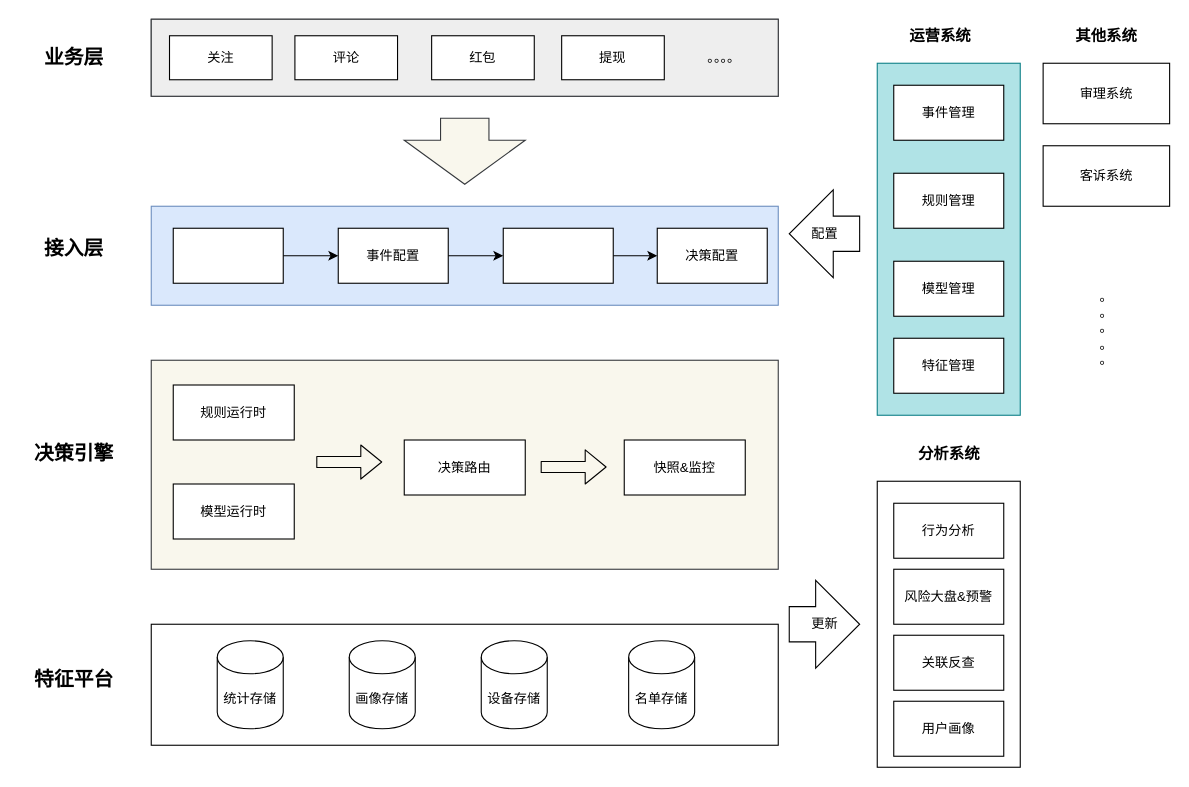
This 1189x787 diagram has some shape labels left out. Each missing label, with the centre of its shape:
接入: (464,150)
数据/维度接入: (227,255)
策略配置: (557,255)
